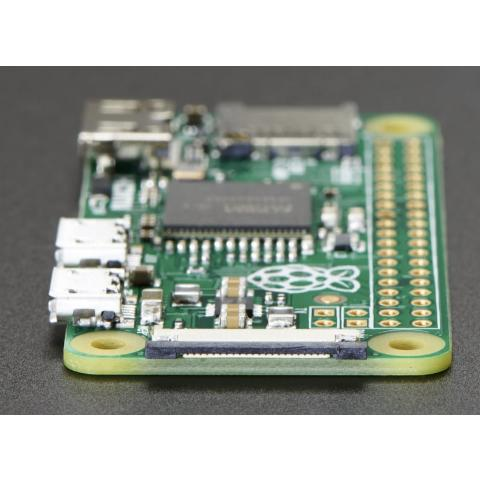Raspberry-Pi-Zero: (48, 98, 452, 376)
